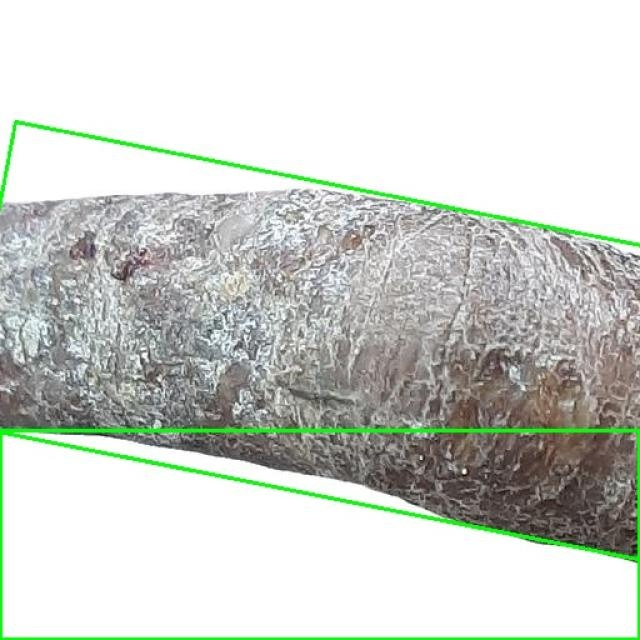Eczema: (0, 122, 640, 559), (0, 430, 639, 639)
